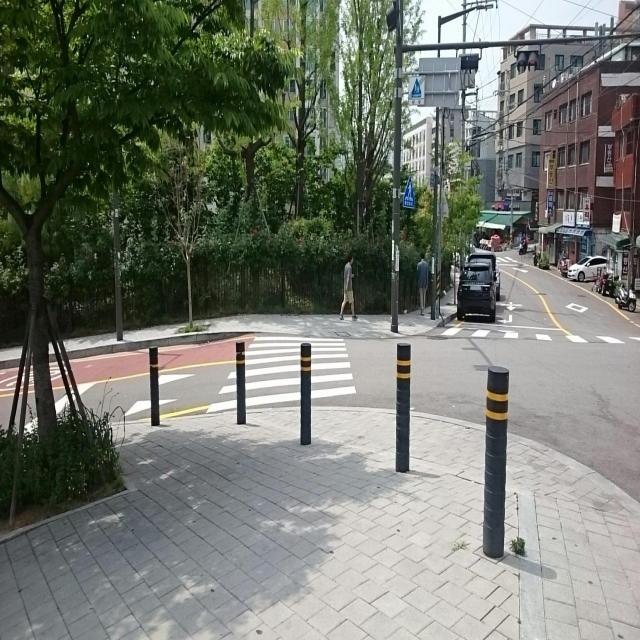횡단보도: (205, 335, 357, 415), (431, 322, 640, 350)
